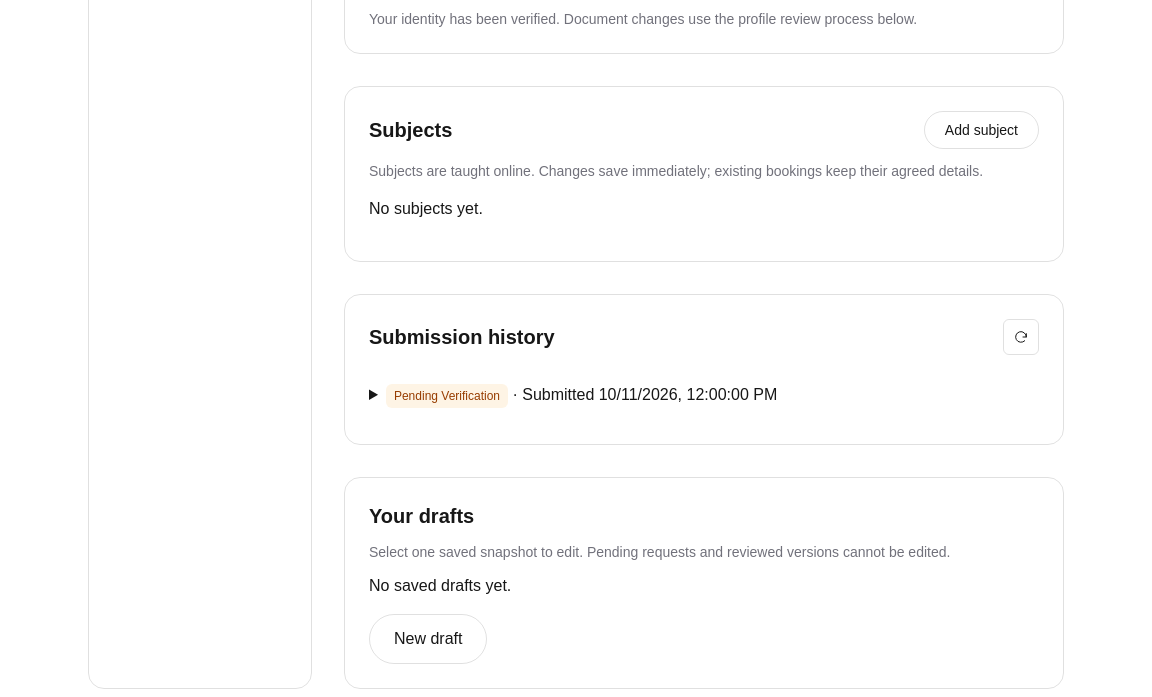
Test case: refreshing approval applies the new profile while preserving PUBLISHED
(page scrolled)
Check: the text "Pending Verification" is shown, box x1=386 y1=384 x2=508 y2=408
What coordinates should you click on to do the following:
click the button named "Refresh review status"
I would click on:
 (1021, 337)
Its box is x1=1003 y1=319 x2=1039 y2=355.
(page scrolled)
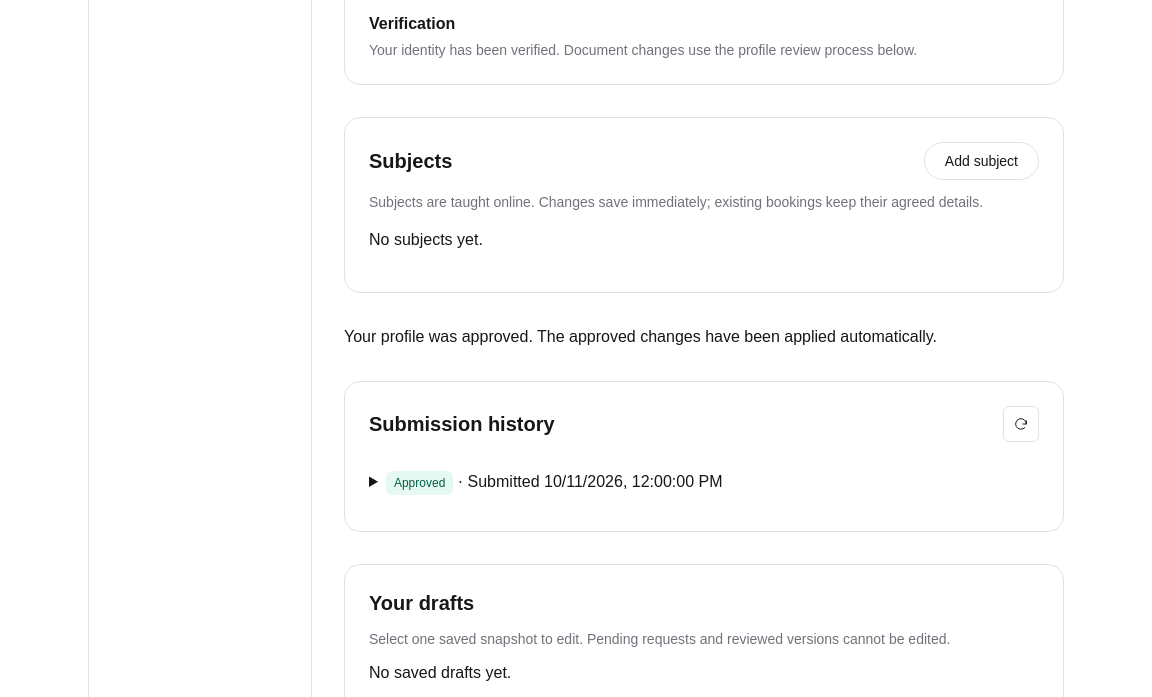
Check: the text "approved changes have been applied automatically" is shown, box x1=533 y1=328 x2=937 y2=345
Check: the heading "Pending Verification" is gone
